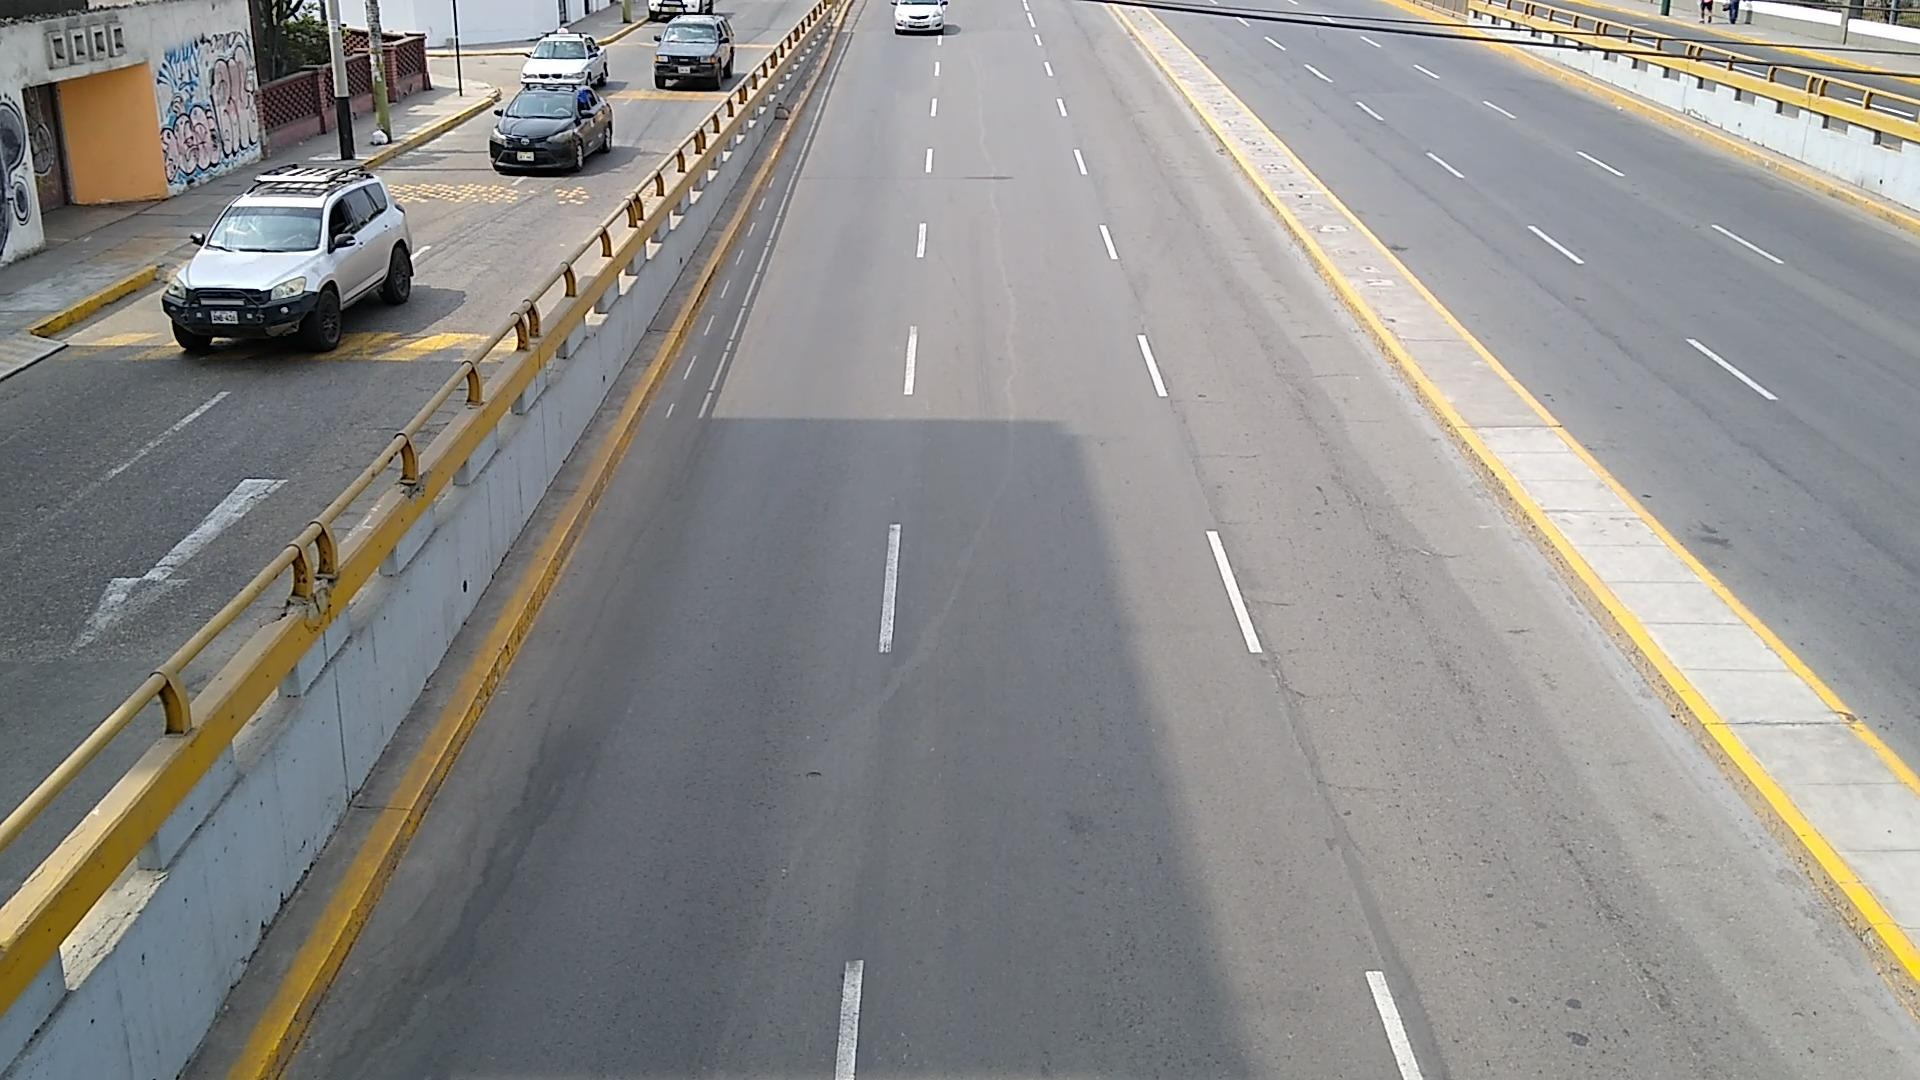car: (161, 161, 413, 352), (488, 86, 612, 173), (653, 15, 735, 86), (521, 30, 608, 90)
